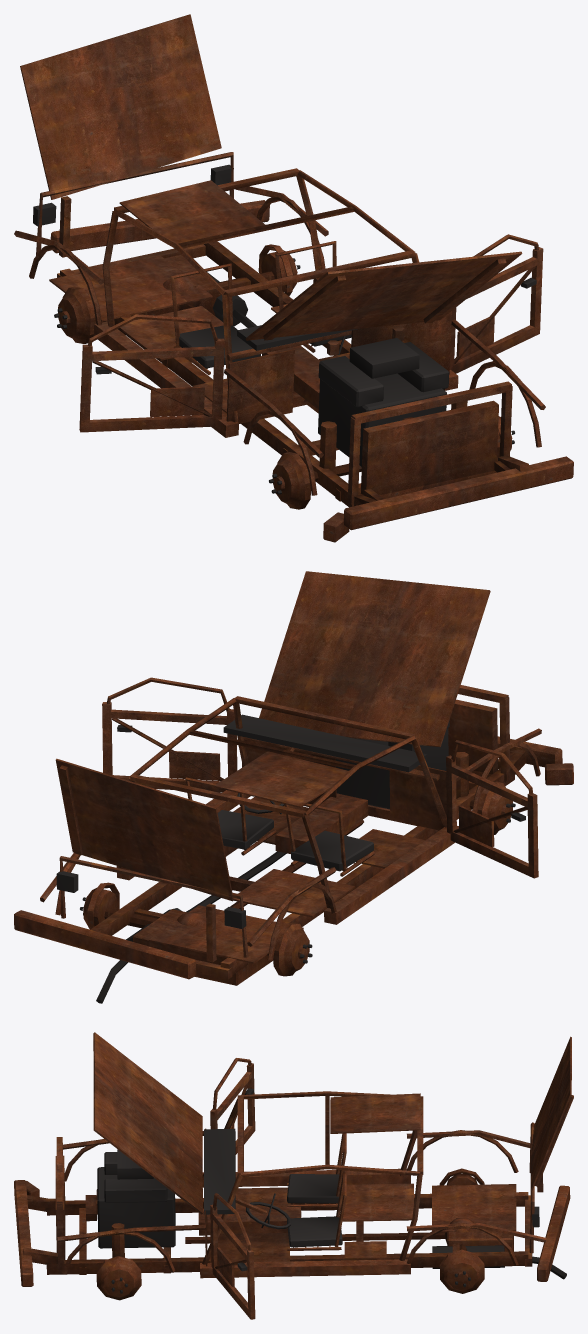
File: skeleton_car_frame.glb
The picture shows the model from 3 angles, top to bottom: view 1: azimuth 30°, elevation 25°; view 2: azimuth 150°, elevation 25°; view 3: azimuth 270°, elevation 25°; orthographic projection. The views are drawn at different scales.
Visible parts, largest first — view 1: skeleton_car_frame_rust_metal, skeleton_car_frame_burnt_black; view 2: skeleton_car_frame_rust_metal, skeleton_car_frame_burnt_black; view 3: skeleton_car_frame_rust_metal, skeleton_car_frame_burnt_black.
Part boxes in pixels (<box>): skeleton_car_frame_rust_metal: <box>14,14,573,542</box>; skeleton_car_frame_burnt_black: <box>33,164,536,494</box>; skeleton_car_frame_rust_metal: <box>14,571,573,985</box>; skeleton_car_frame_burnt_black: <box>56,714,525,1003</box>; skeleton_car_frame_rust_metal: <box>14,1032,573,1319</box>; skeleton_car_frame_burnt_black: <box>97,1088,566,1293</box>.
Size of the model in its own units: 3.54 by 1.84 by 4.65.
Materials: 2 (1 with a texture image).
